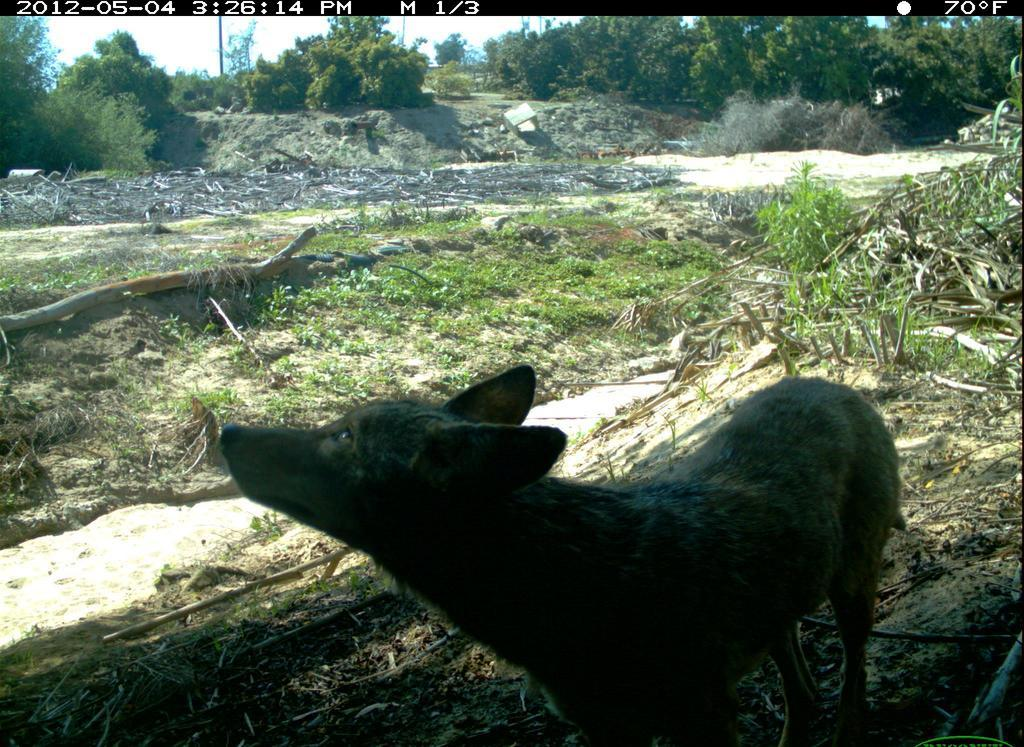coyote: (203, 315, 923, 745)
